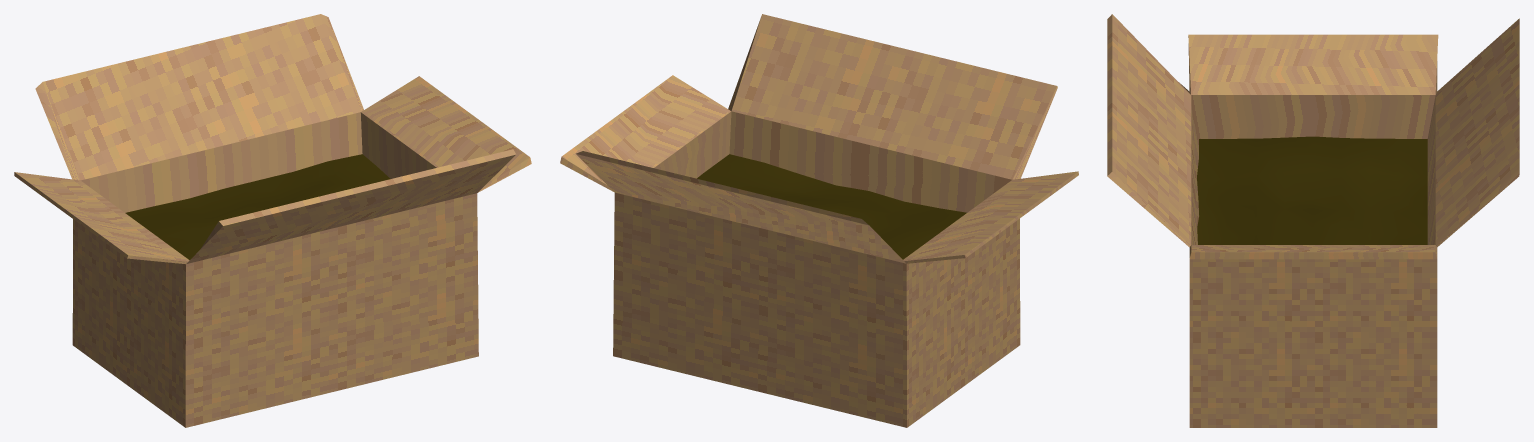
The model's file is box_cardboard_full.obj.
3 views of the same model, side by side, from view 1: azimuth 30°, elevation 25°; view 2: azimuth 150°, elevation 25°; view 3: azimuth 270°, elevation 25° (orthographic). The views are drawn at different scales.
Visible parts, largest first — view 1: Cube; view 2: Cube; view 3: Cube.
Part boxes in pixels (<box>): Cube: <box>14,14,531,427</box>; Cube: <box>560,14,1078,427</box>; Cube: <box>1107,14,1519,427</box>.
Bounding box in the file's own units: 1.19 × 0.6606 × 0.9613.
2 materials, 2 textured.
